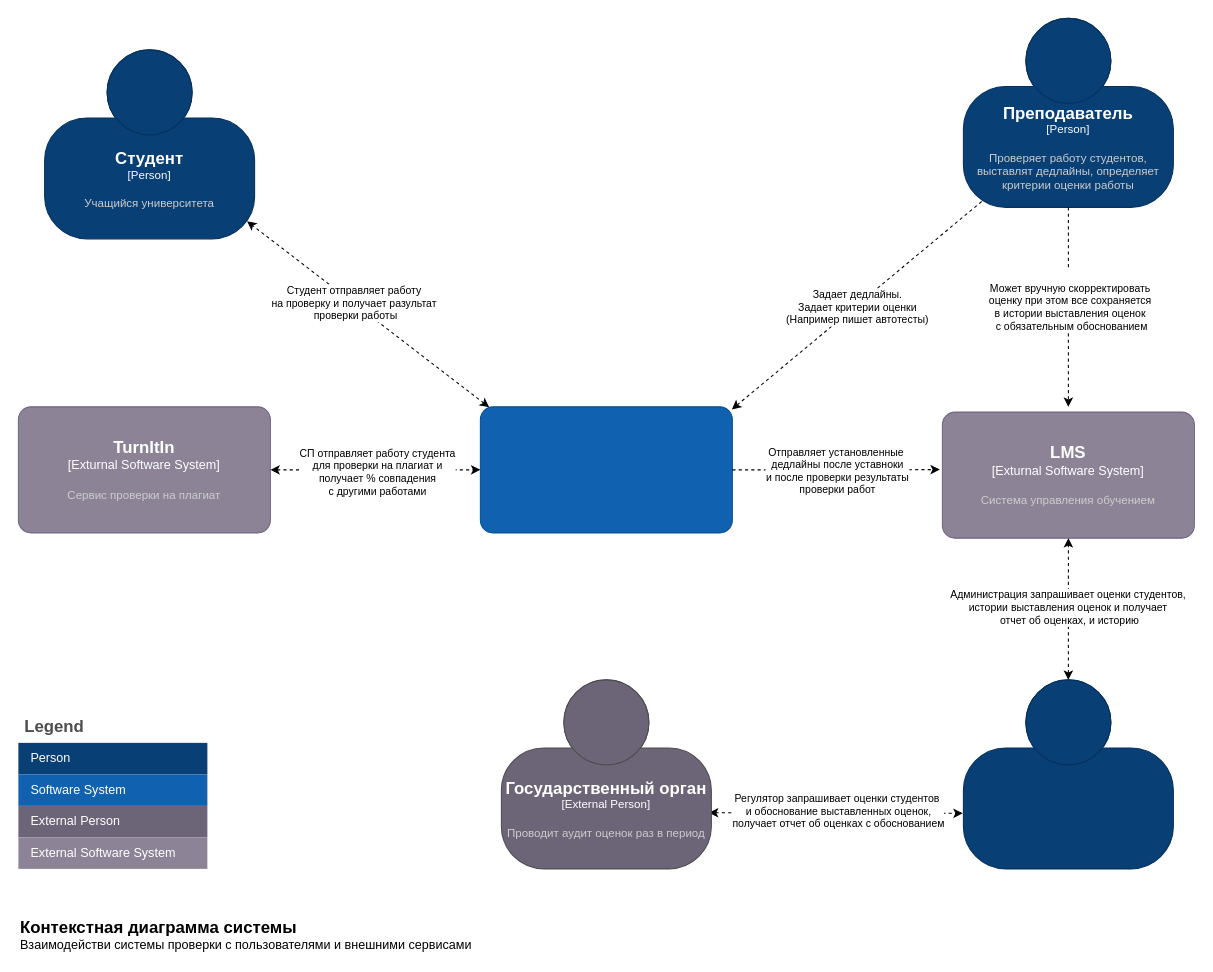
This 1213x972 diagram has some shape labels left out. The shapes that lost their labels are listed below. From the top down, each one's centre as x and y in pixels, then its label:
At point (605, 469): "Сервис проверки [Software System] Автоматический сервис проверки работ студентов".
At point (1067, 774): "Администрация [Person] Декан, бухгалтерия, менеджеский состав.".
